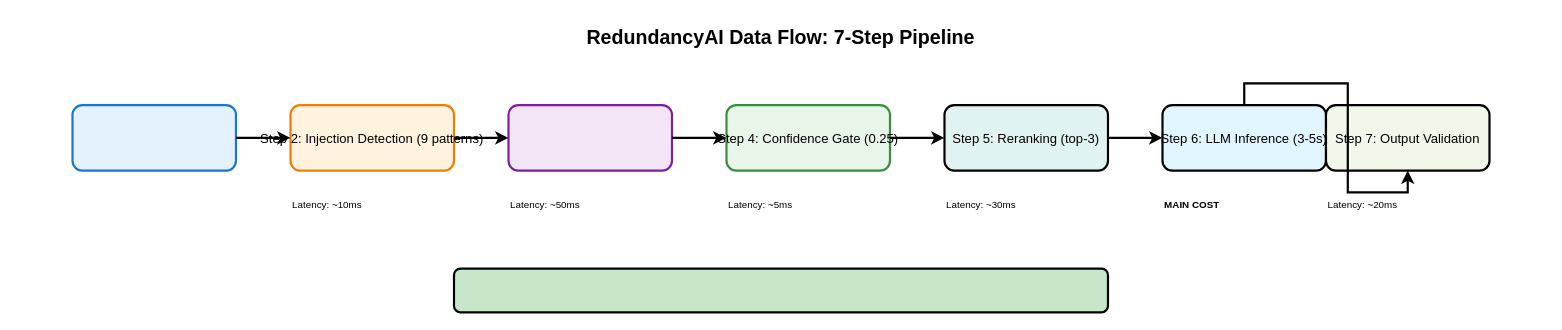
The diagram is 1562 pixels wide and 330 high, and some of its shapes have lost their labels. The shapes that lost their labels are listed below. From the top down, each one's centre as x and y in pixels, then its label:
point (154, 137): Step 1: User Question Input
point (590, 137): Step 3: Vector Search (top-8)
point (780, 290): TOTAL LATENCY: 3.1 - 5.1 seconds
